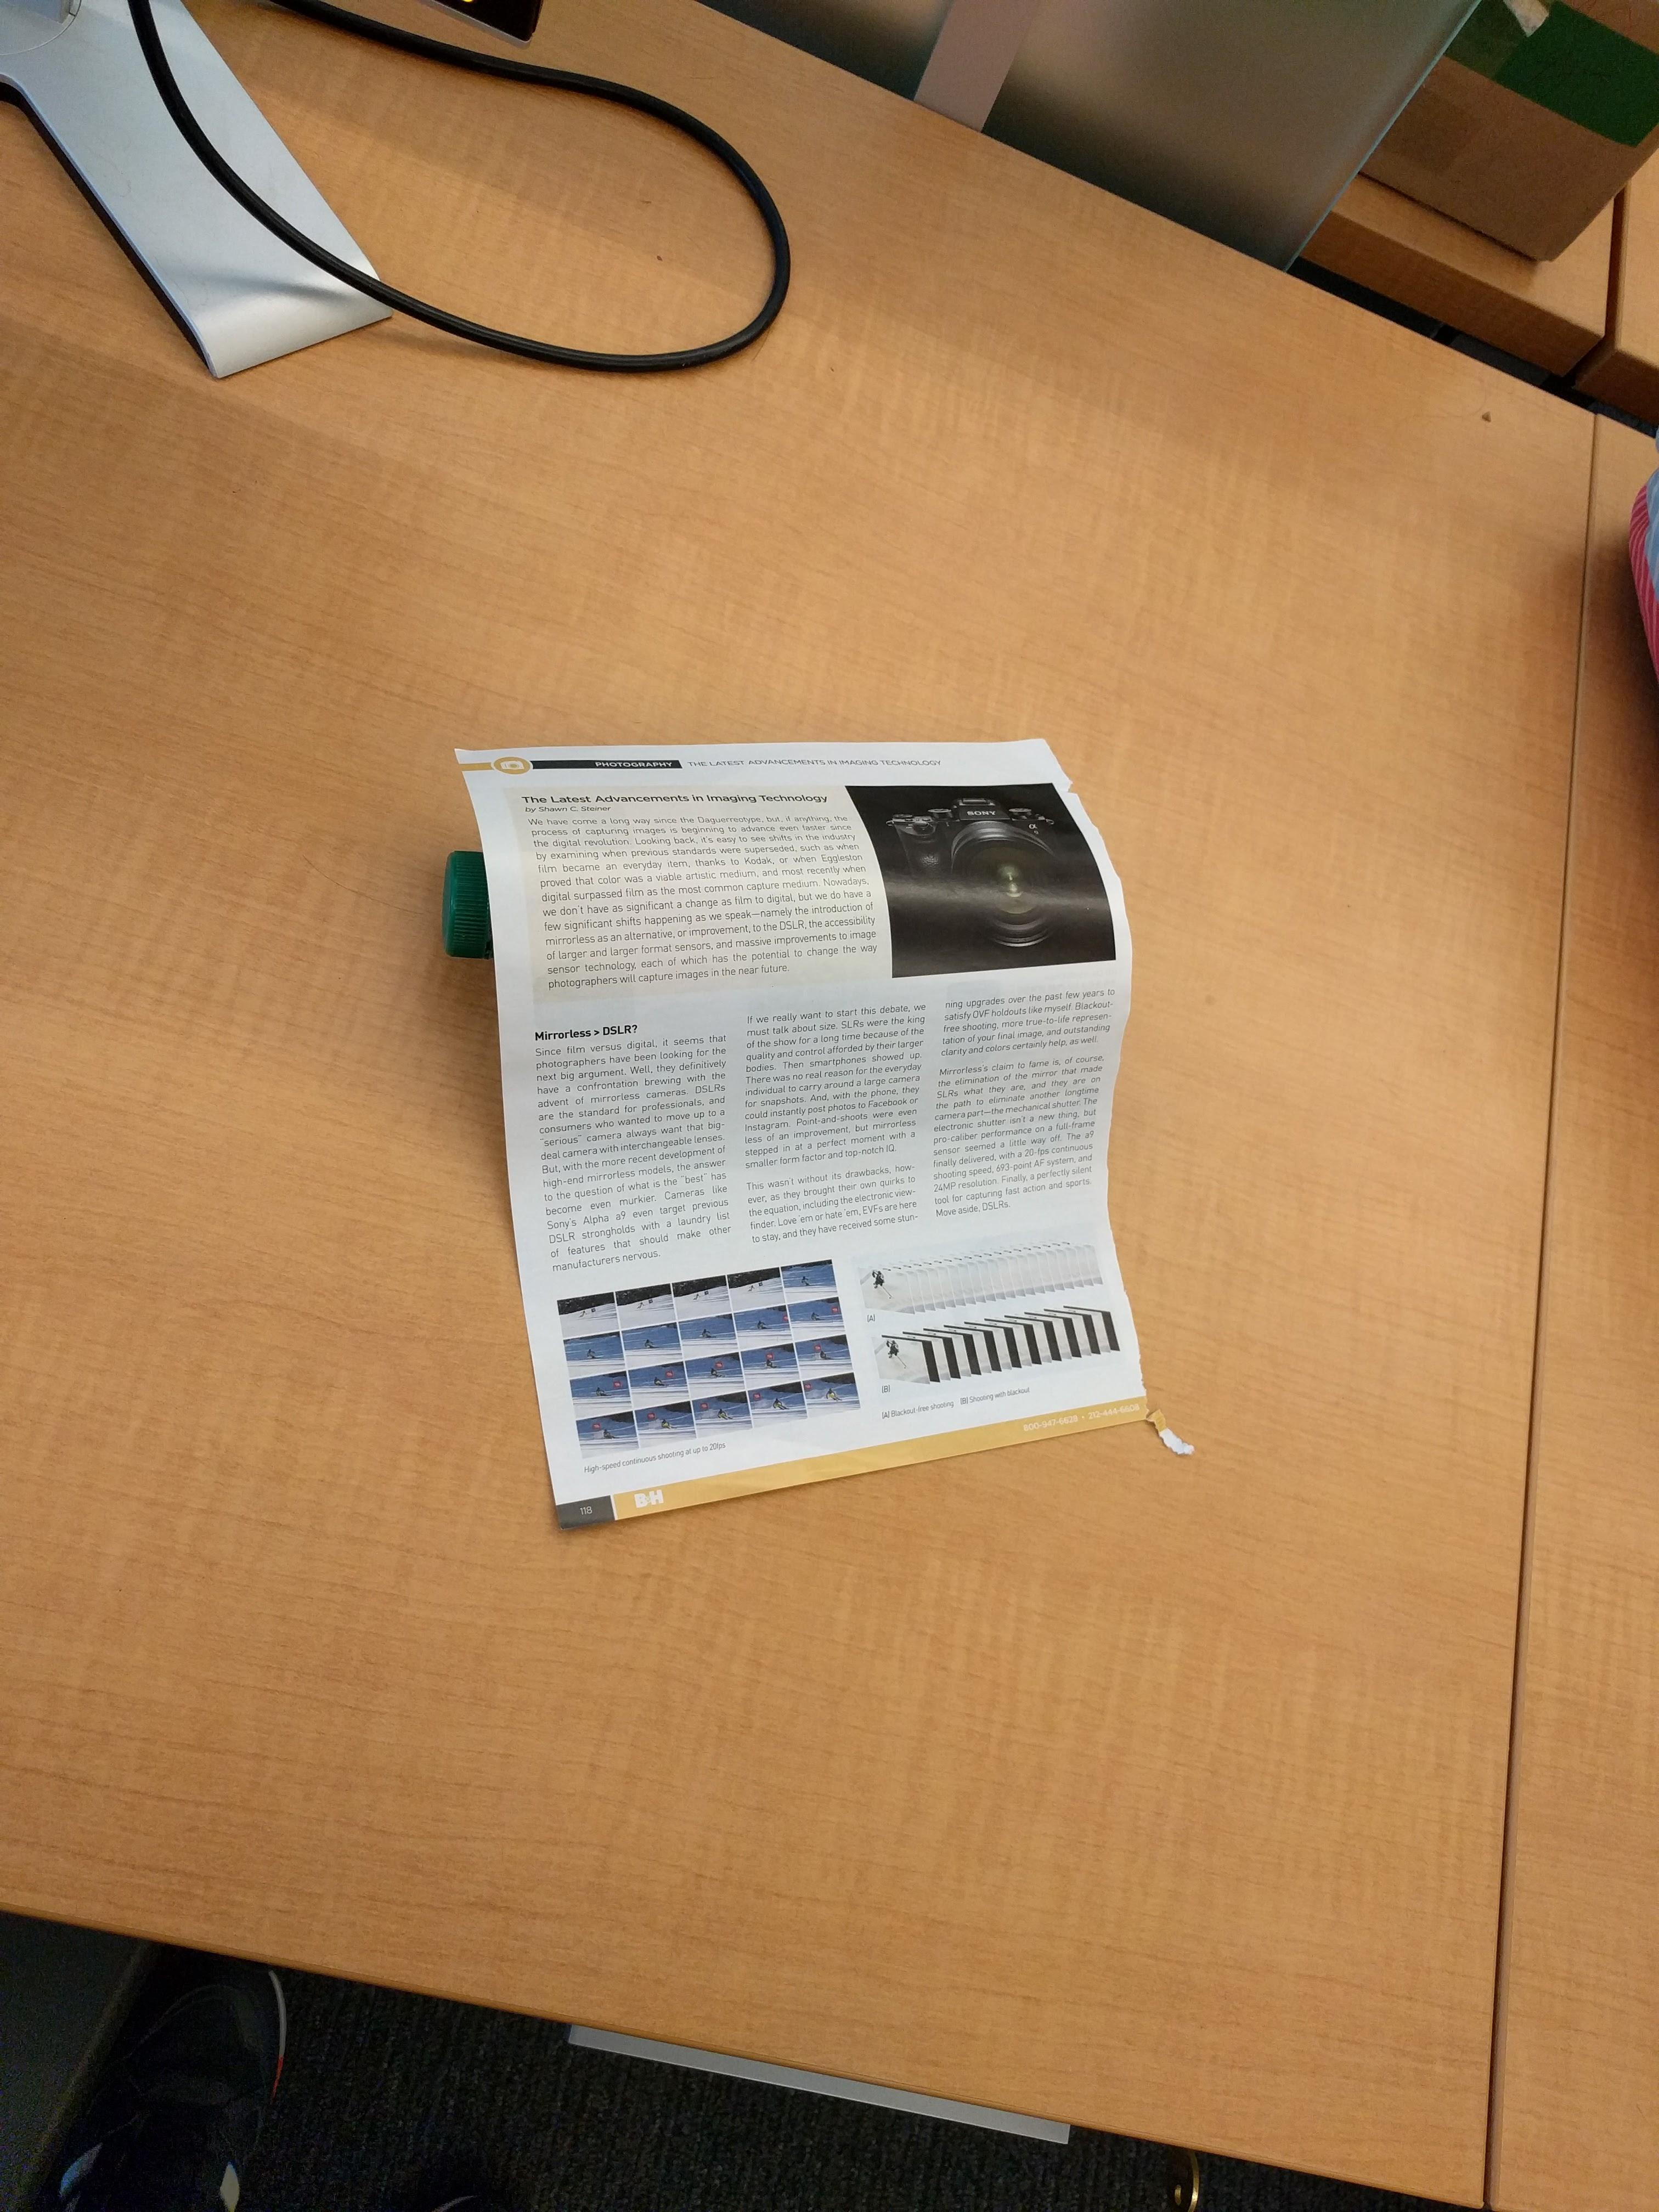paper: (197, 535, 1588, 1676)
